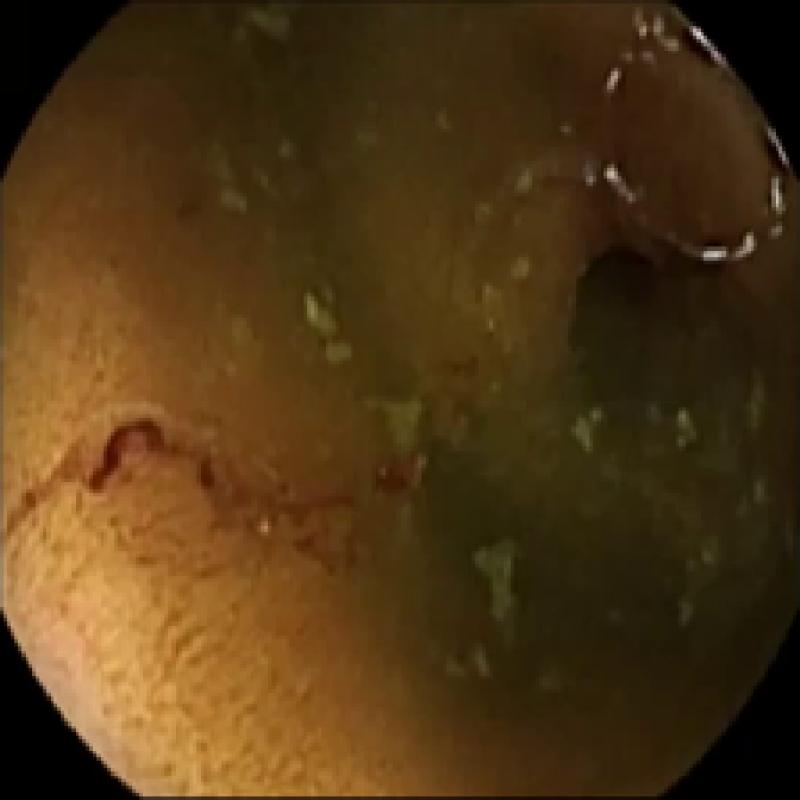bleeding: (70, 414, 261, 507), (284, 447, 427, 562)
